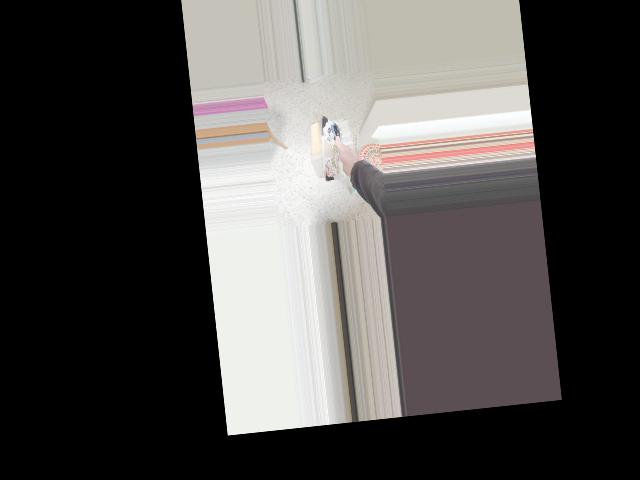cheese: (290, 110, 361, 192)
